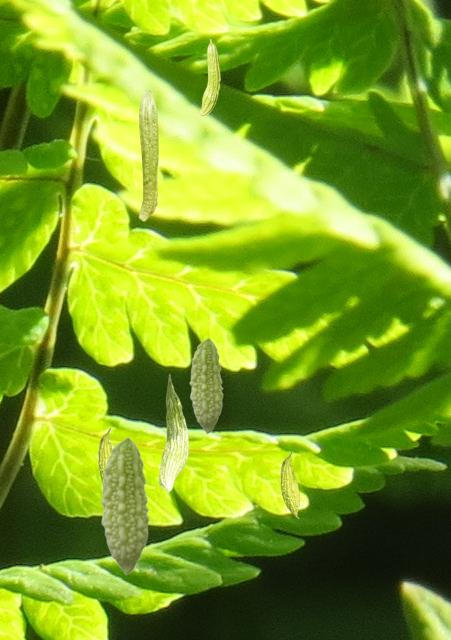ampalaya: (100, 436, 150, 575), (158, 373, 189, 493), (189, 337, 223, 434), (138, 89, 159, 221), (198, 38, 221, 116), (280, 451, 300, 519), (97, 427, 112, 481)
